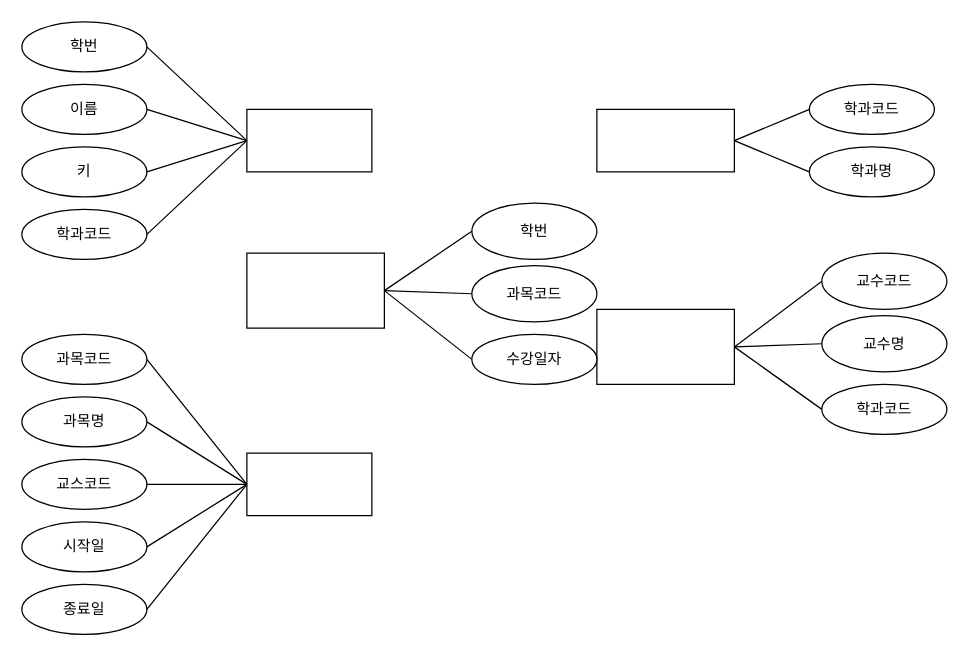
The diagram is 969 pixels wide and 656 high, and some of its shapes have lost their labels. Each missing label, with the centre of its shape:
과목: point (309, 484)
교수: point (665, 346)
수강: point (315, 290)
학과: point (665, 140)
학생: point (309, 140)
